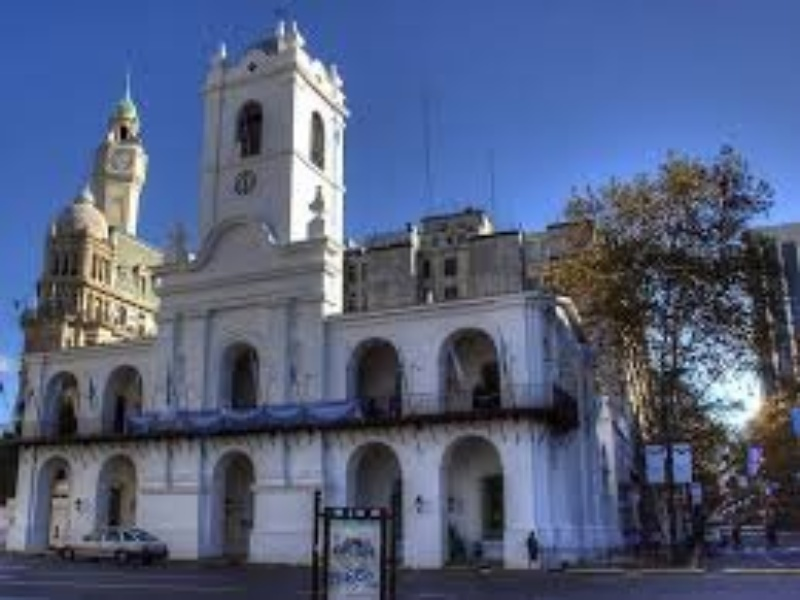cabildo: (7, 14, 582, 574)
